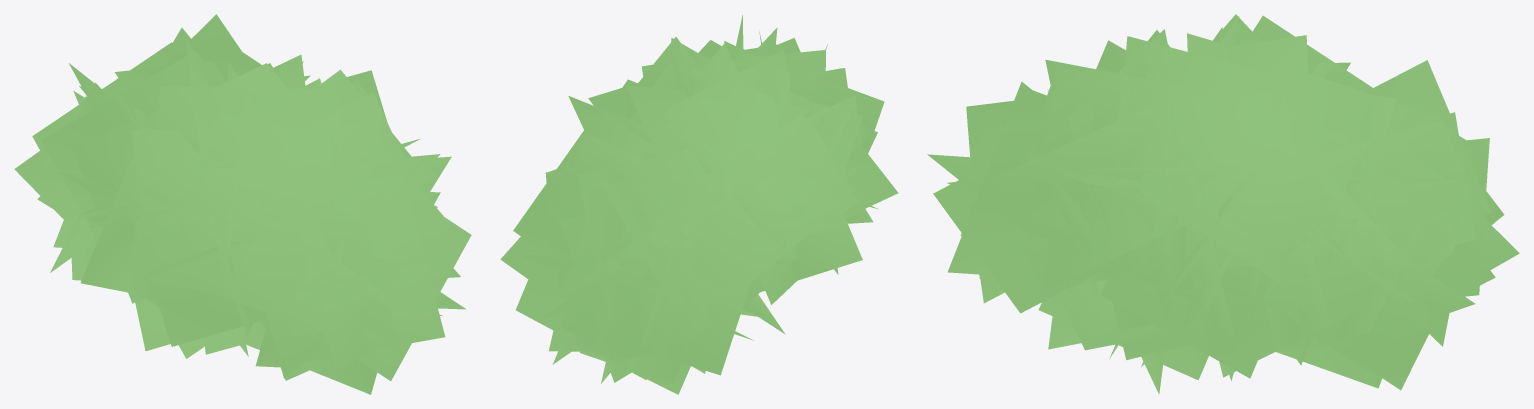
Rendered from leaf_5.glb.
The picture shows the model from 3 angles, left to right: view 1: azimuth 30°, elevation 25°; view 2: azimuth 150°, elevation 25°; view 3: azimuth 270°, elevation 25°; orthographic projection. The views are drawn at different scales.
Parts seen in each view (by area): view 1: Leaf_06_LOD1; view 2: Leaf_06_LOD1; view 3: Leaf_06_LOD1.
Boxes of the visible parts, x1=… form: Leaf_06_LOD1: x1=14, y1=14, x2=471, y2=394; Leaf_06_LOD1: x1=500, y1=15, x2=898, y2=394; Leaf_06_LOD1: x1=927, y1=14, x2=1519, y2=394.
Bounding box in the file's own units: 0.5951 × 0.5769 × 0.9275.
